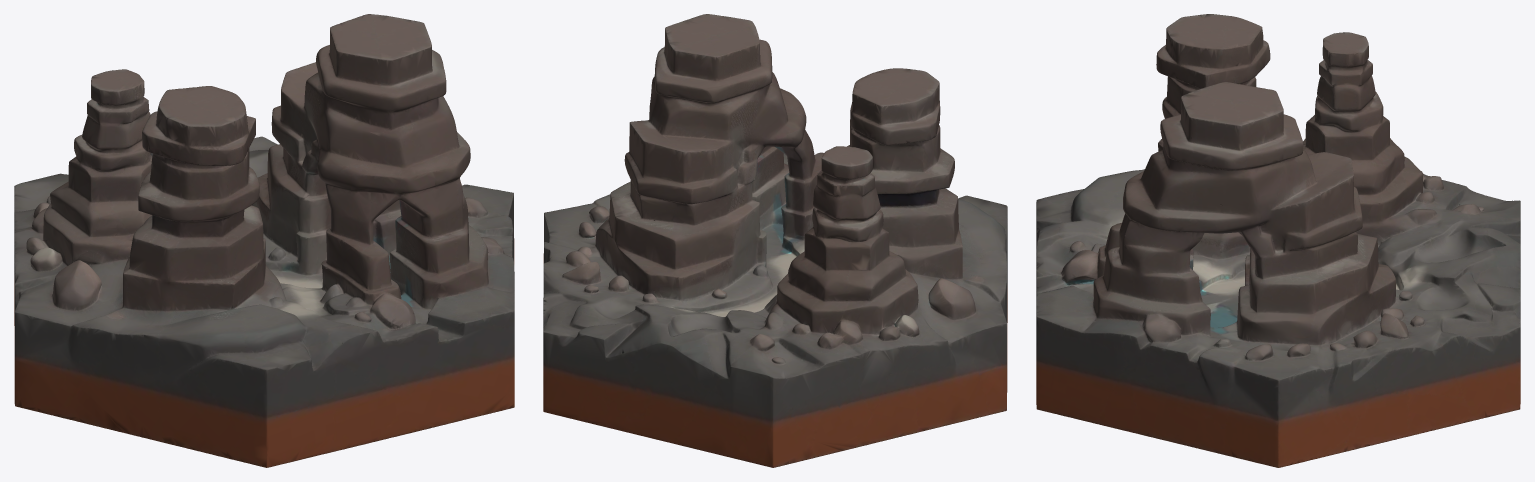
The model's file is rocktile_lv3.glb.
3 renders of one model, left to right at view 1: azimuth 30°, elevation 25°; view 2: azimuth 150°, elevation 25°; view 3: azimuth 270°, elevation 25°, orthographic. The views are drawn at different scales.
Bounding box in the file's own units: 1.9 × 1.11 × 1.67.
Materials: 1 (1 with a texture image).
